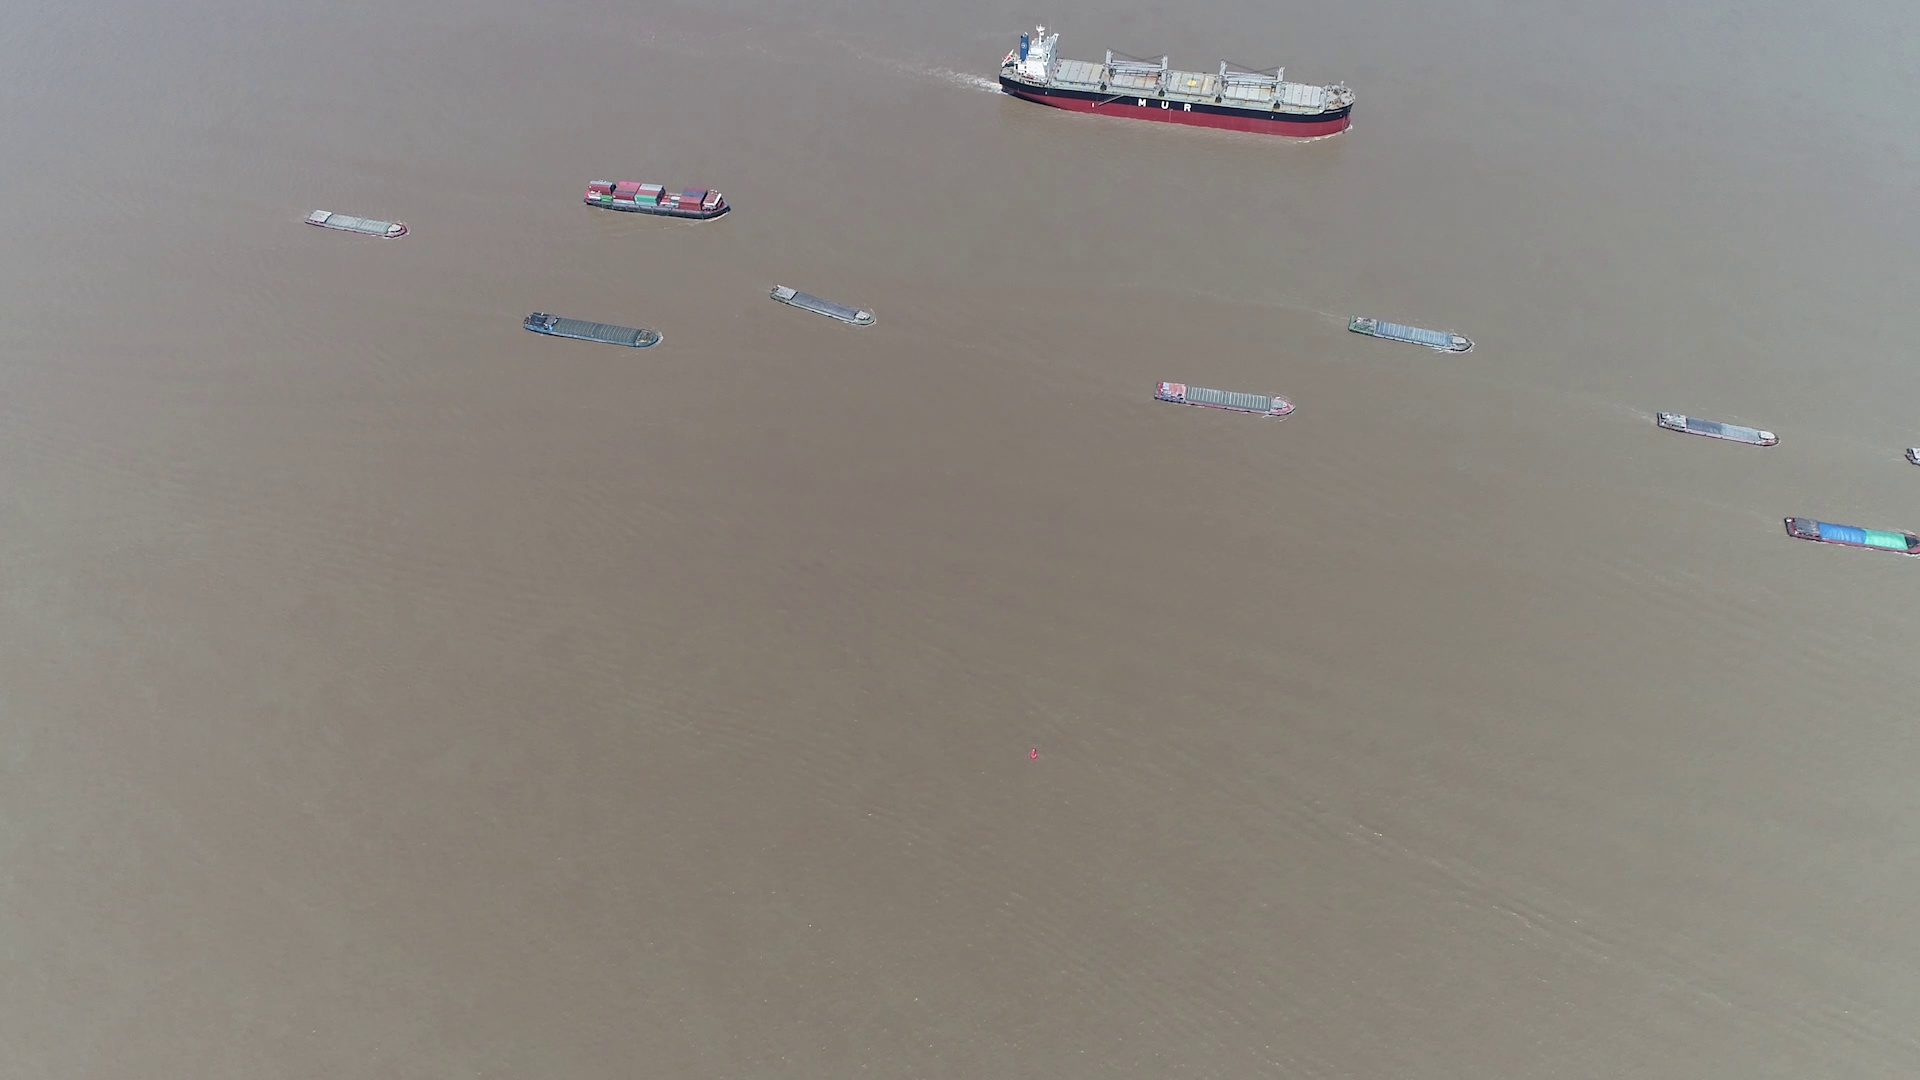ship: (1000, 30, 1354, 137), (585, 178, 728, 219), (1154, 378, 1295, 417), (522, 311, 662, 349), (1783, 516, 1920, 554), (1348, 313, 1474, 353), (1655, 410, 1779, 448), (771, 287, 877, 328), (305, 207, 407, 237)
